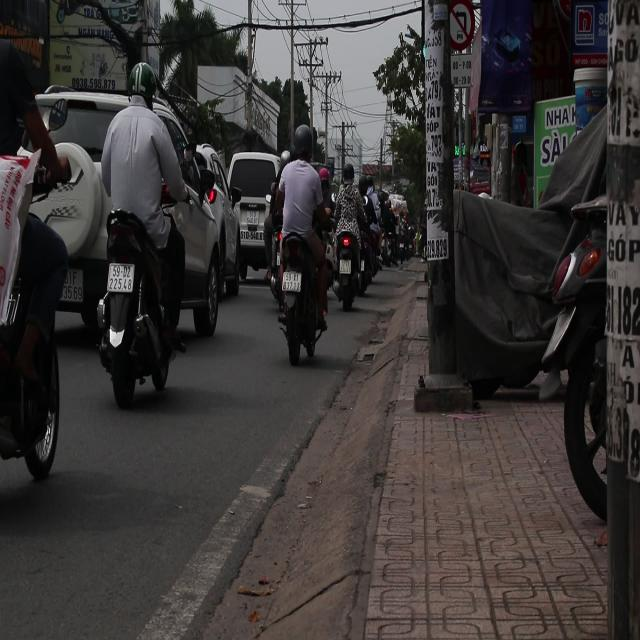car: (25, 65, 218, 331), (173, 147, 242, 337), (228, 156, 282, 281)
motorbike: (0, 46, 76, 493), (94, 205, 183, 406), (272, 225, 331, 365), (327, 222, 367, 309), (358, 188, 394, 278)
